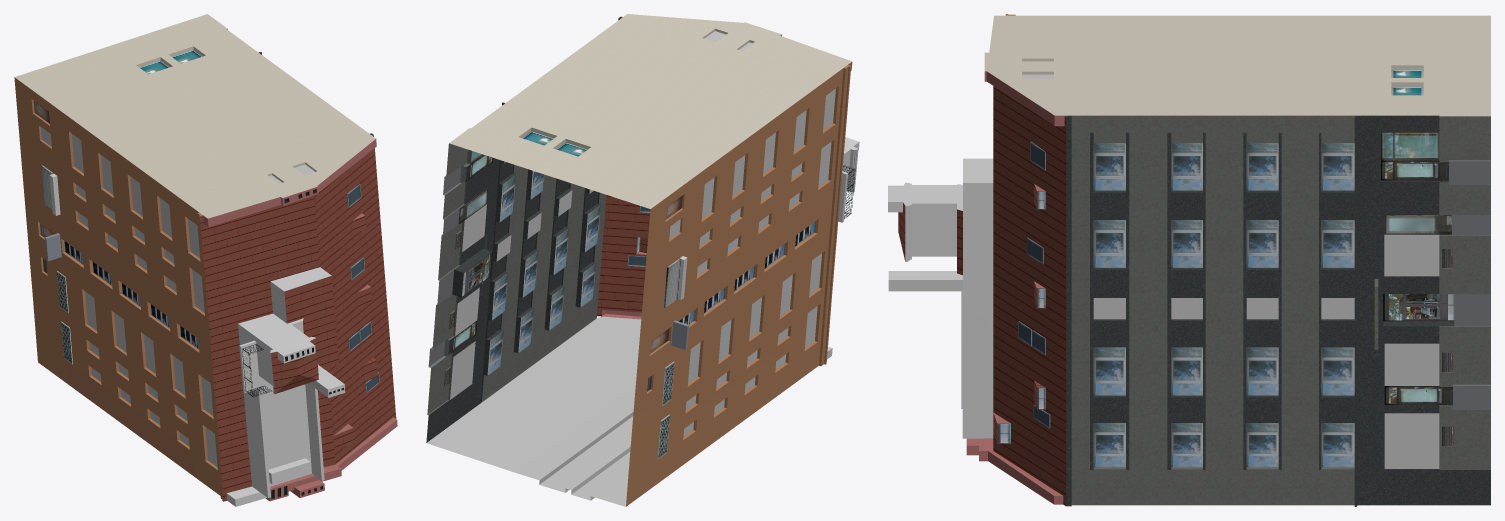
File: Aia_5b.obj
3 views of the same model, side by side, from view 1: azimuth 30°, elevation 25°; view 2: azimuth 150°, elevation 25°; view 3: azimuth 270°, elevation 25° (orthographic). The views are drawn at different scales.
Parts seen in each view (by area): view 1: Aia5_B; view 2: Aia5_B; view 3: Aia5_B.
Boxes of the visible parts, x1,y1,x2,y2 form: Aia5_B: (14,14,397,506); Aia5_B: (426,14,859,506); Aia5_B: (888,14,1490,506).
Bounding box in the file's own units: 15.07 × 19.9 × 27.36.
